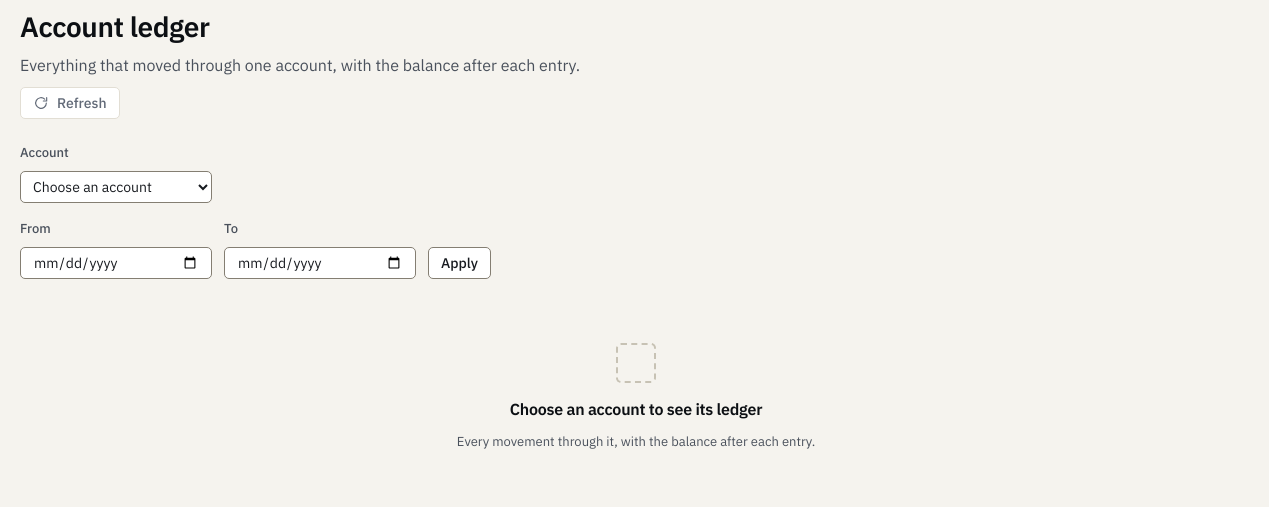
Test: AccountLedger › shows the opening balance as its own row
Select "1210 · Bank Account" in the dropdown labelled "Account" at [116, 187], box 20,171 -> 212,203
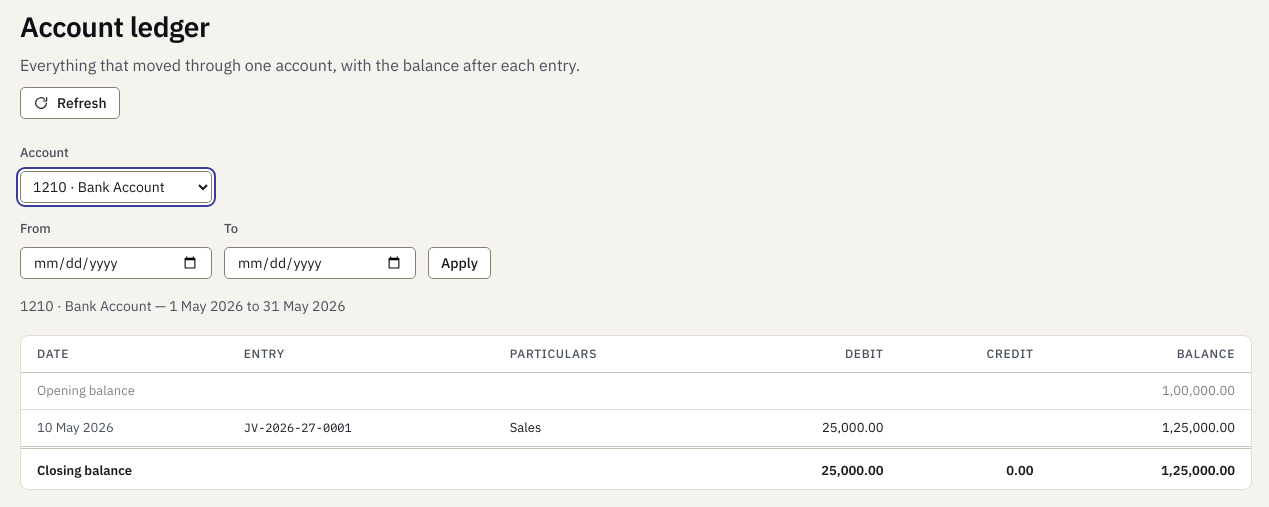
Now the text "1,00,000.00" is shown, box 1050,372 -> 1251,409
